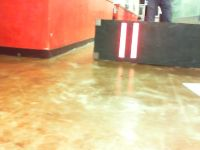switch: (117, 23, 127, 58), (130, 23, 139, 59)
